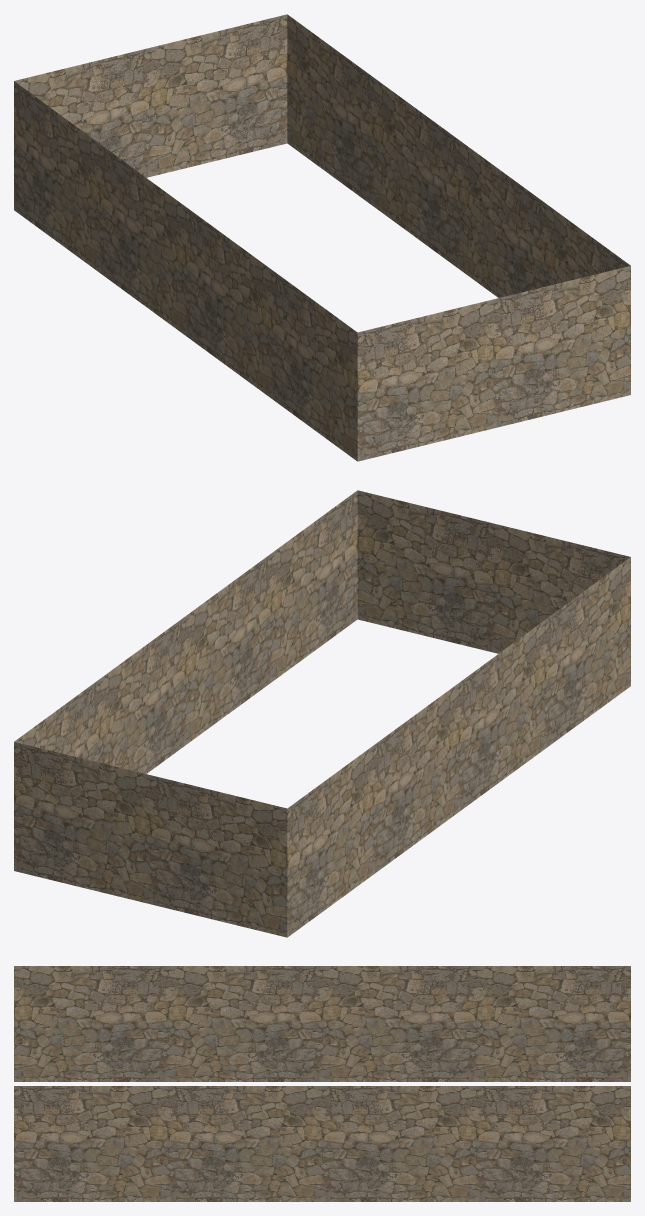
Rendered from platform_parth.dae.
The picture shows the model from 3 angles, top to bottom: view 1: azimuth 30°, elevation 25°; view 2: azimuth 150°, elevation 25°; view 3: azimuth 270°, elevation 25°; orthographic projection. The views are drawn at different scales.
Visible parts, largest first — view 1: Cube; view 2: Cube; view 3: Cube.
Boxes of the visible parts, bbox=[...] form: Cube: bbox=[14, 14, 630, 461]; Cube: bbox=[14, 490, 630, 937]; Cube: bbox=[14, 966, 630, 1201].
Bounding box in the file's own units: 25.51 × 55.54 × 11.52.
